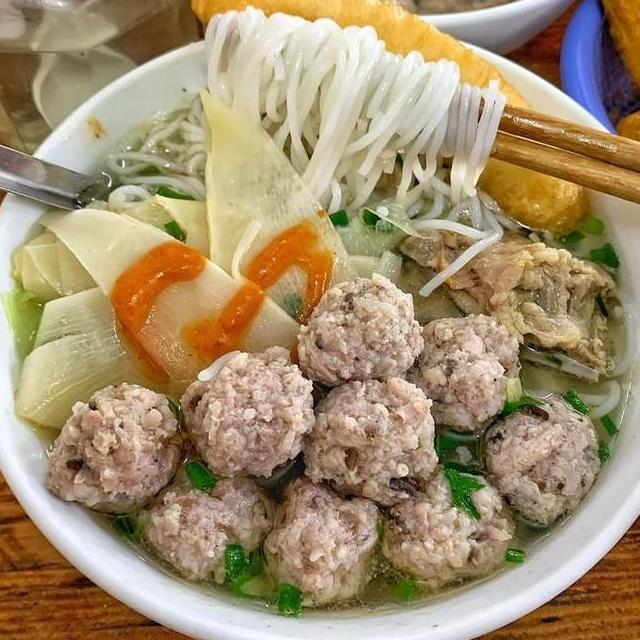vien moc: (409, 102, 640, 504), (140, 179, 304, 320), (36, 136, 195, 280), (110, 54, 267, 196), (123, 293, 270, 437), (95, 468, 252, 600), (3, 257, 158, 387), (35, 370, 171, 501), (242, 292, 372, 423), (198, 400, 339, 512)
